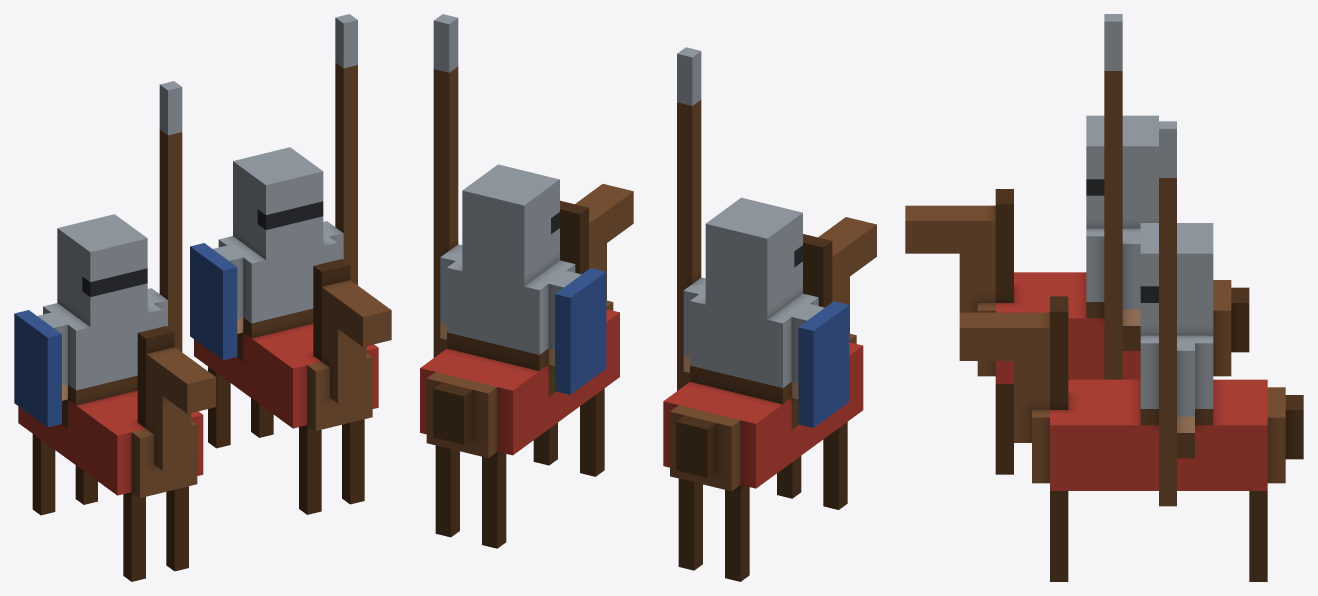
The model's file is u_knight.glb.
3 views of the same model, side by side, from view 1: azimuth 30°, elevation 25°; view 2: azimuth 150°, elevation 25°; view 3: azimuth 270°, elevation 25° (orthographic). The views are drawn at different scales.
Parts seen in each view (by area): view 1: u_knight_body; view 2: u_knight_body; view 3: u_knight_body.
Part boxes in pixels (bbox=[...]): u_knight_body: bbox=[14, 14, 391, 581]; u_knight_body: bbox=[420, 14, 876, 581]; u_knight_body: bbox=[905, 14, 1303, 581].
Bounding box in the file's own units: 1.5 × 1.81 × 1.38.
1 material, 1 textured.
